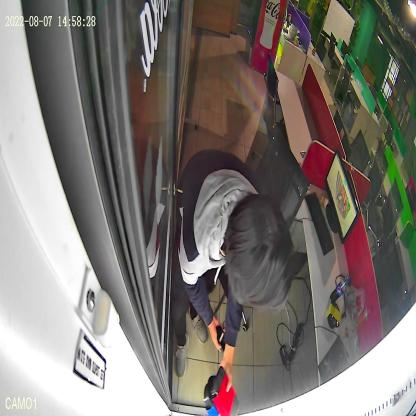blue: (204, 374, 220, 416)
red: (210, 366, 240, 416)
